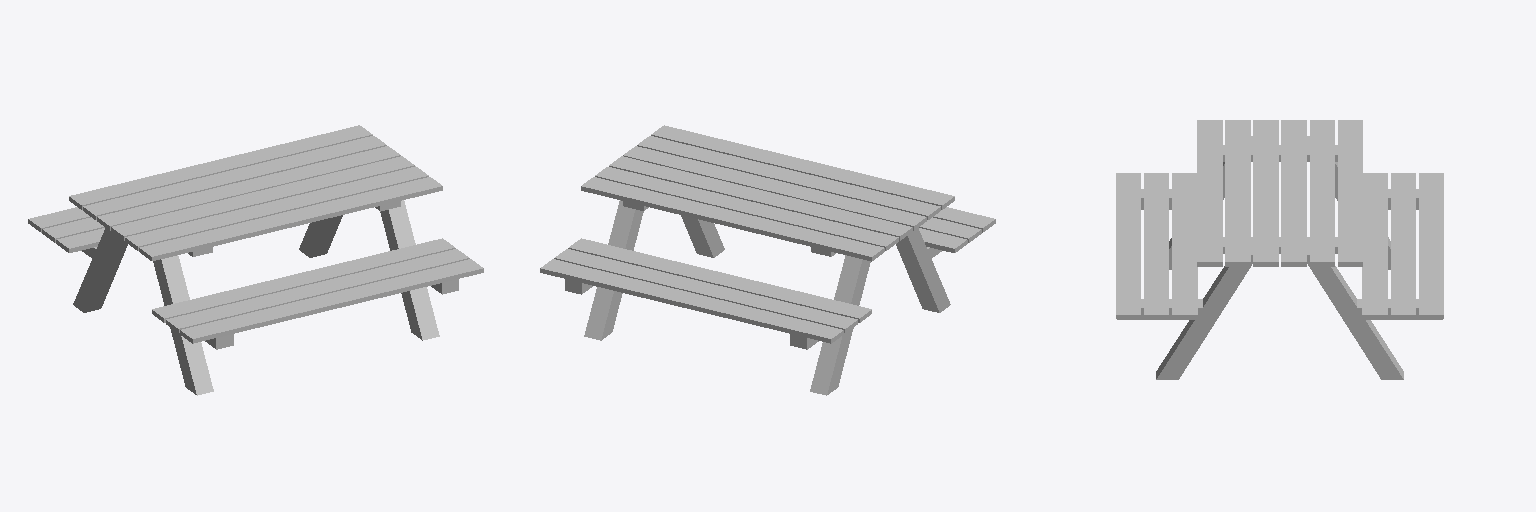
Rendered from pTable.obj.
3 views of the same model, side by side, from view 1: azimuth 30°, elevation 25°; view 2: azimuth 150°, elevation 25°; view 3: azimuth 270°, elevation 25° (orthographic).
Visible parts, largest first — view 1: pCube5, pCube16, pCube6, pCube14, pCube11, pCube15, pCube7, pCube12, pCube13, pCube19, pCube2, pCube20 (+4 smaller); view 2: pCube9, pCube12, pCube13, pCube16, pCube10, pCube11, pCube8, pCube14, pCube15, pCube20, pCube21, pCube19 (+4 smaller); view 3: pCube16, pCube15, pCube14, pCube13, pCube7, pCube10, pCube12, pCube11, pCube6, pCube9, pCube5, pCube8 (+2 smaller).
Boxes of the visible parts, x1,y1,x2,y2 form: pCube5: [180, 259, 483, 343]; pCube16: [139, 177, 442, 260]; pCube6: [166, 249, 469, 332]; pCube14: [125, 166, 428, 250]; pCube11: [83, 136, 386, 219]; pCube15: [111, 156, 414, 240]; pCube7: [152, 238, 455, 322]; pCube12: [69, 125, 372, 209]; pCube13: [97, 146, 400, 230]; pCube19: [153, 255, 233, 395]; pCube2: [380, 200, 458, 340]; pCube20: [73, 228, 127, 312]; pCube9: [540, 259, 843, 343]; pCube12: [581, 177, 884, 261]; pCube13: [609, 156, 912, 240]; pCube16: [651, 125, 954, 209]; pCube10: [568, 238, 871, 322]; pCube11: [595, 167, 898, 250]; pCube8: [554, 249, 857, 332]; pCube14: [637, 136, 940, 219]; pCube15: [623, 146, 926, 230]; pCube20: [790, 255, 870, 395]; pCube21: [565, 200, 643, 340]; pCube19: [896, 228, 950, 312]; pCube16: [1197, 120, 1222, 266]; pCube15: [1253, 120, 1278, 266]; pCube14: [1225, 120, 1250, 266]; pCube13: [1281, 120, 1306, 266]; pCube7: [1172, 173, 1197, 318]; pCube10: [1362, 173, 1387, 318]; pCube12: [1338, 120, 1362, 266]; pCube11: [1310, 120, 1334, 266]; pCube6: [1144, 173, 1168, 318]; pCube9: [1419, 173, 1443, 318]; pCube5: [1116, 173, 1140, 318]; pCube8: [1391, 173, 1415, 318].
Size of the model in its own units: 4.25 by 1.81 by 4.16.